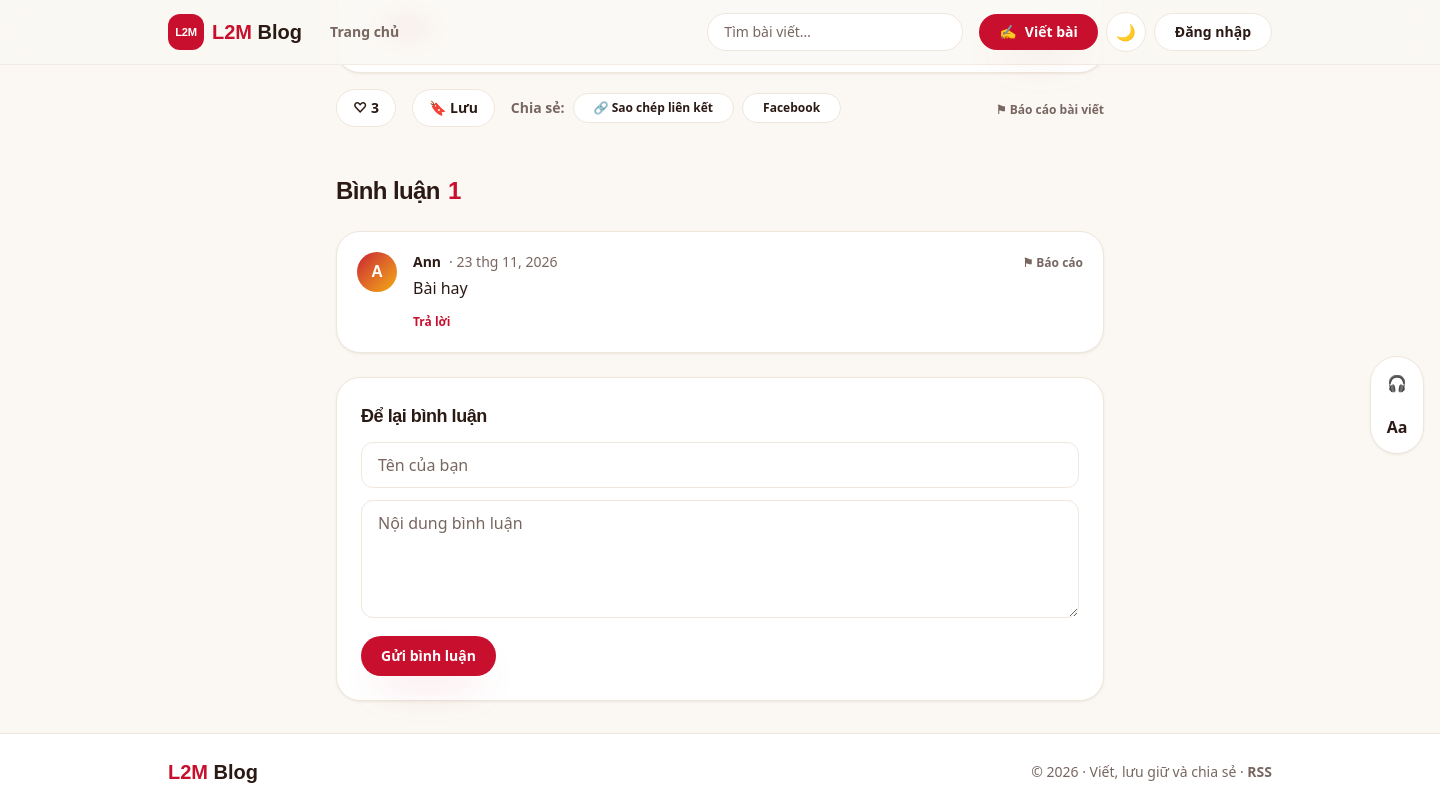
Scenario: App › tells a blocked commenter why the comment was refused
The image size is (1440, 810).
(page scrolled)
Type "Bob" into the field labelled "Tên của bạn".
click(720, 465); type("Bob")  # box [361,442,1079,488]
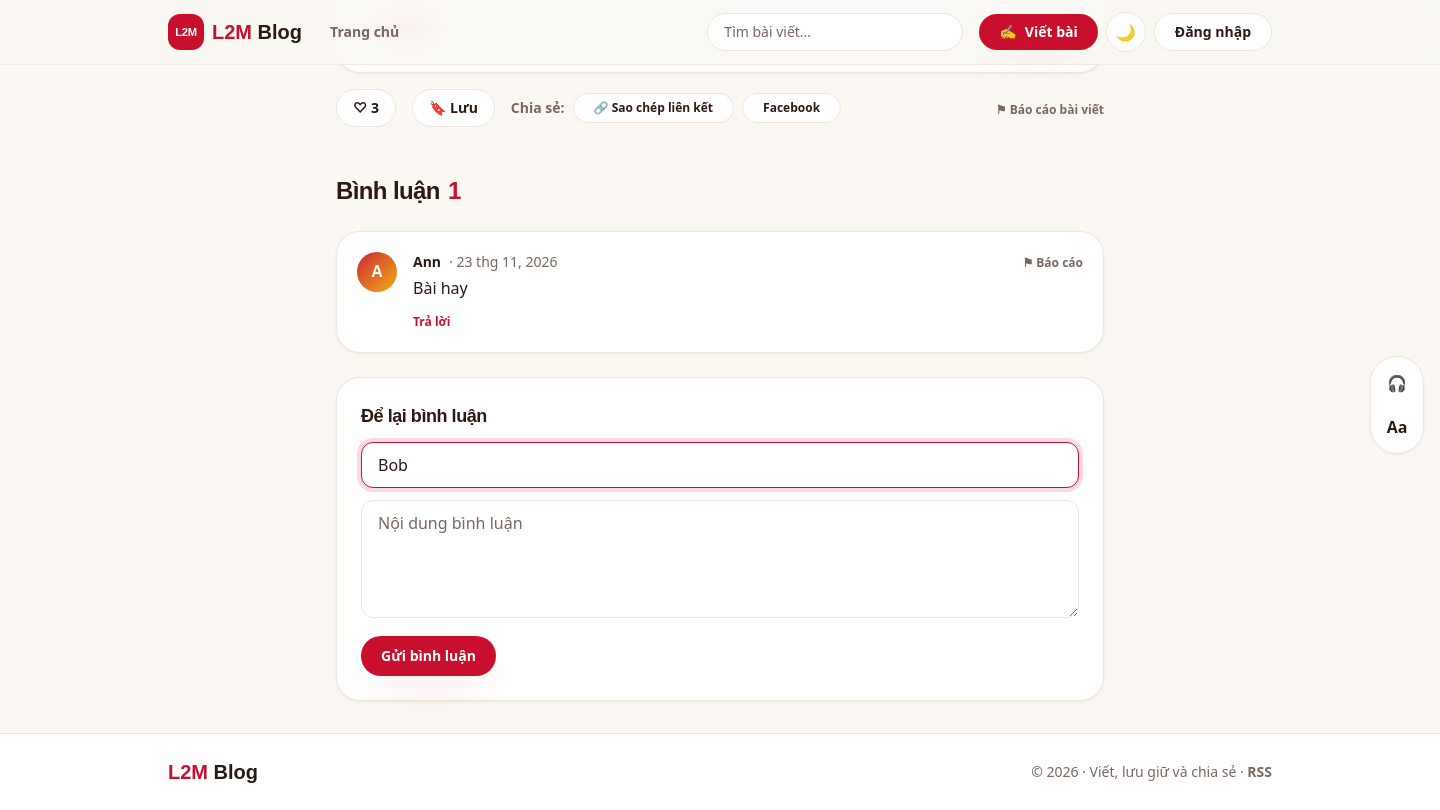
Type "again" into the text box labelled "Nội dung bình luận".
click(720, 559); type("again")  # box [361,500,1079,618]
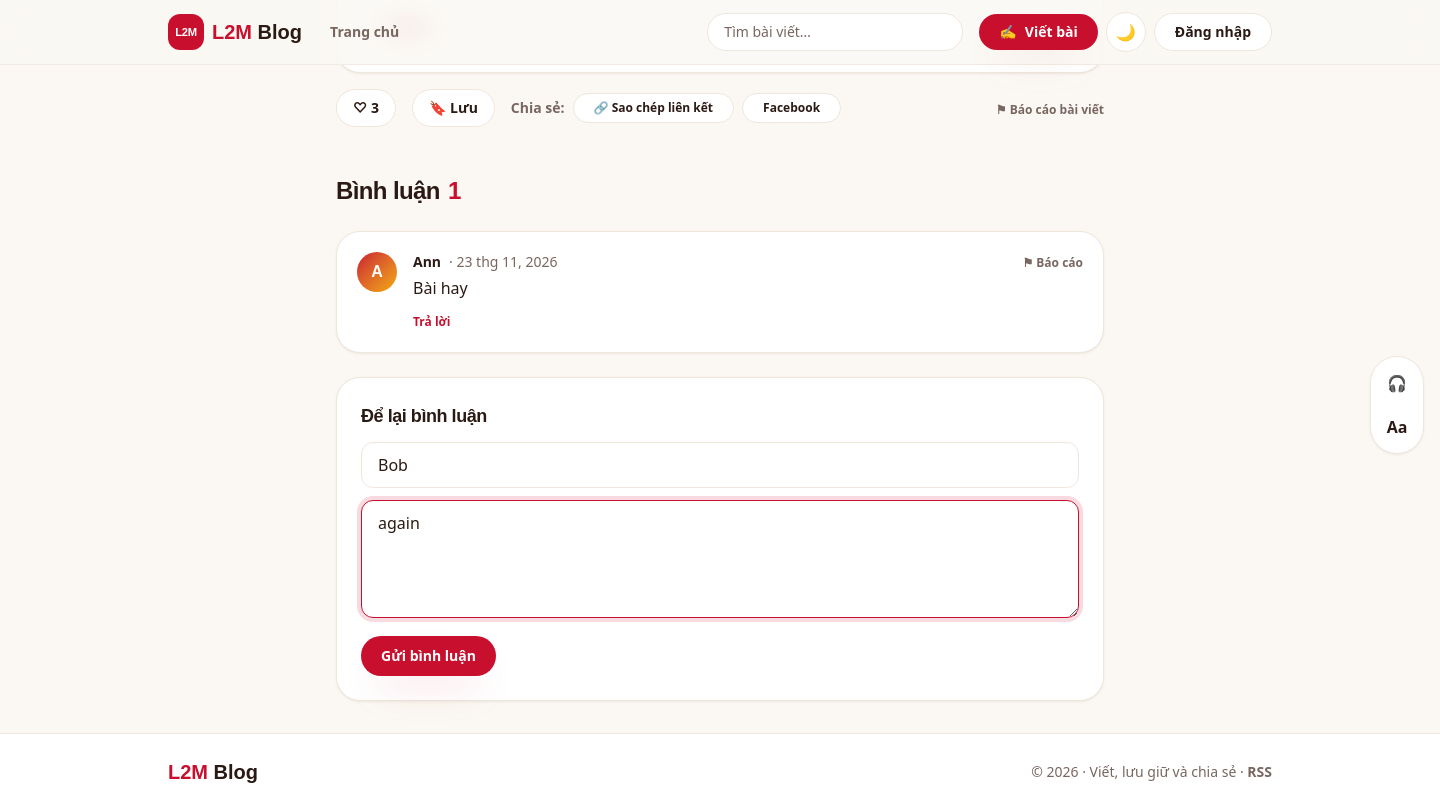
Click the button "Gửi bình luận".
click(428, 656)  # box [361,636,496,676]
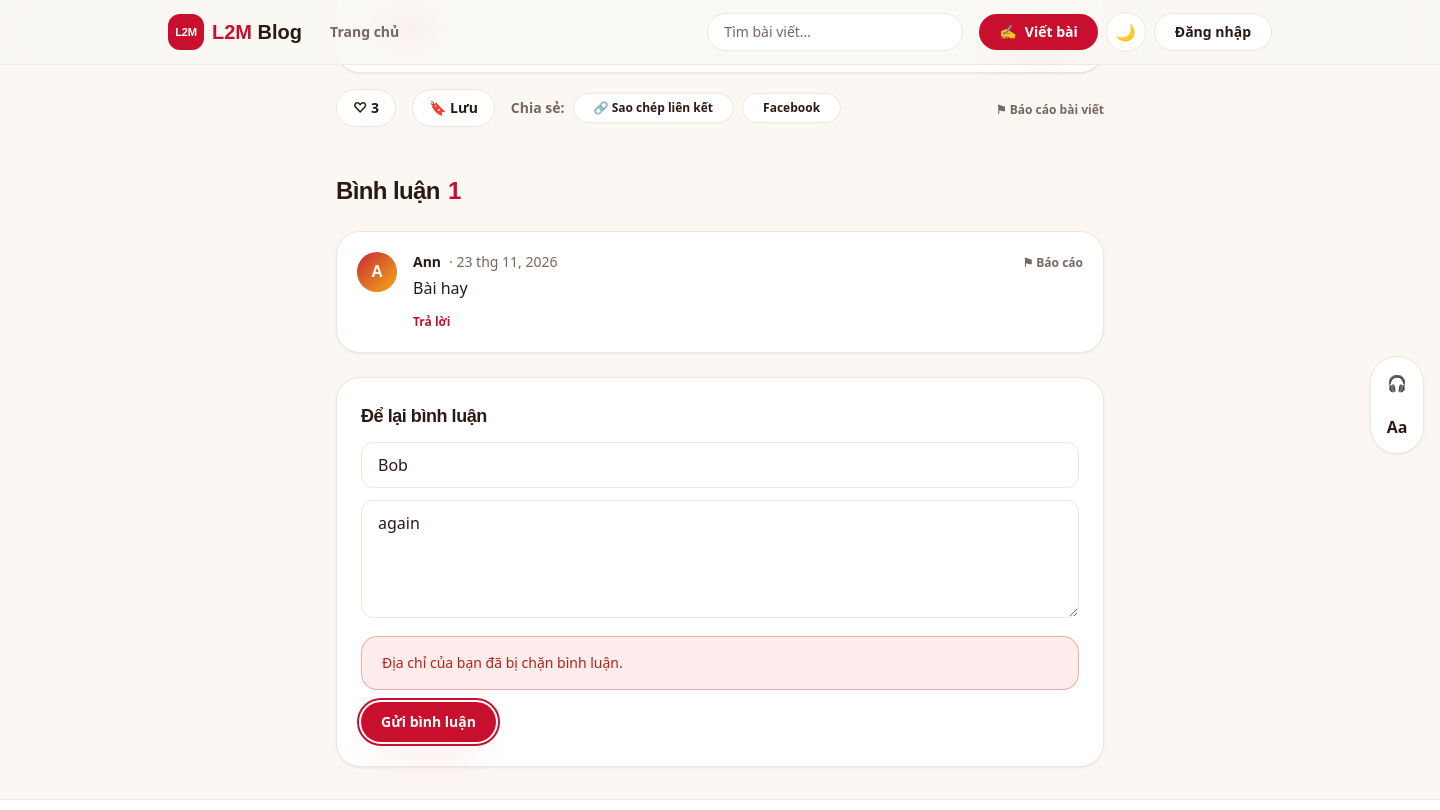
Now the message reads "Địa chỉ của bạn đã bị chặn bình luận.", box [382,653,623,672]
